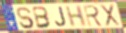B: (32, 6, 52, 29)
H: (64, 5, 87, 28)
J: (55, 6, 68, 28)
R: (83, 4, 105, 27)
S: (16, 6, 36, 30)
X: (99, 4, 121, 27)
